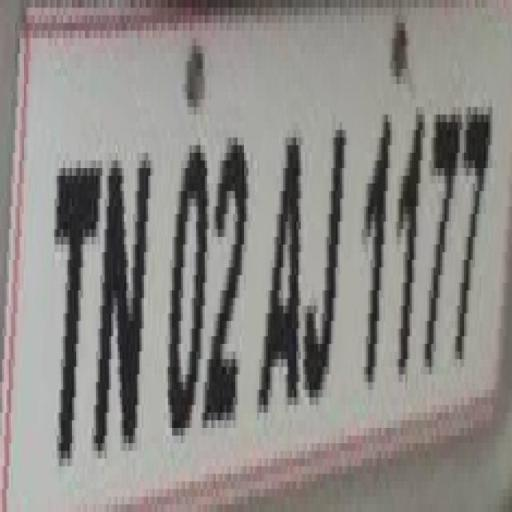number plate: (15, 0, 512, 466)
